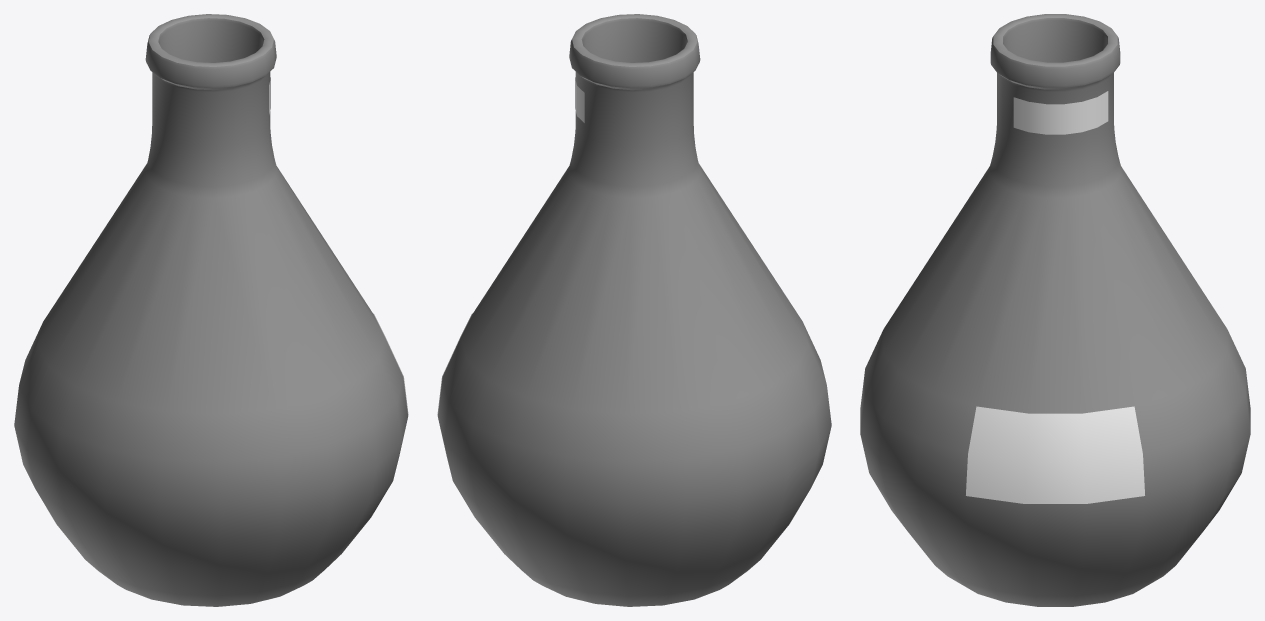
Rendered from SM_浓缩瓶.fbx.
3 views of the same model, side by side, from view 1: azimuth 30°, elevation 25°; view 2: azimuth 150°, elevation 25°; view 3: azimuth 270°, elevation 25° (orthographic).
Visible parts, largest first — view 1: SM_浓缩瓶; view 2: SM_浓缩瓶; view 3: SM_浓缩瓶.
Part boxes in pixels (box(x1,y1,x2,y2)): SM_浓缩瓶: box(14, 14, 408, 606); SM_浓缩瓶: box(437, 14, 831, 606); SM_浓缩瓶: box(860, 14, 1250, 606).
Bounding box in the file's own units: 139 × 205 × 139.
